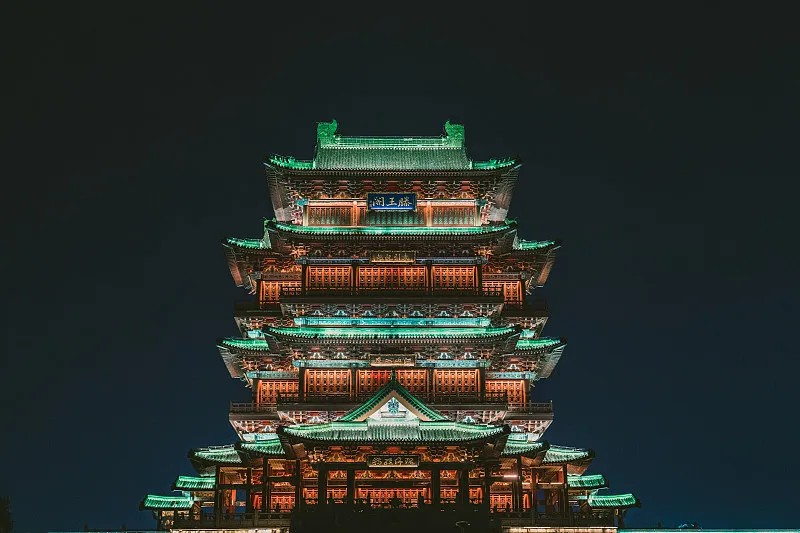Teng: (143, 118, 634, 533)
